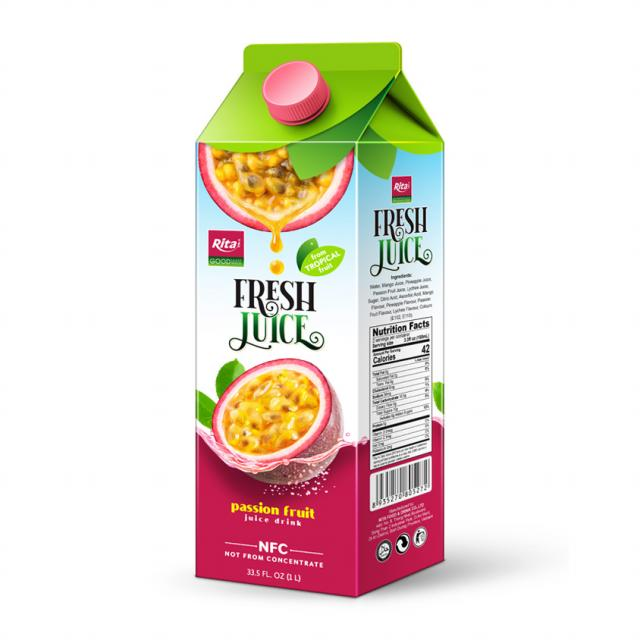non_white_jug: (189, 51, 451, 614)
